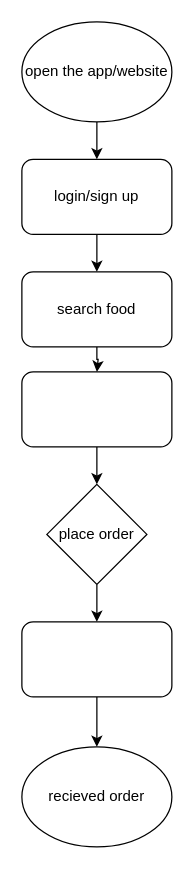
Image size: 194x869. Some labels were removed from this diagram. The centre of each missing label's shape, as x and y in pixels:
"payment" goes at pixel 96 659.
"select dish" goes at pixel 96 409.
